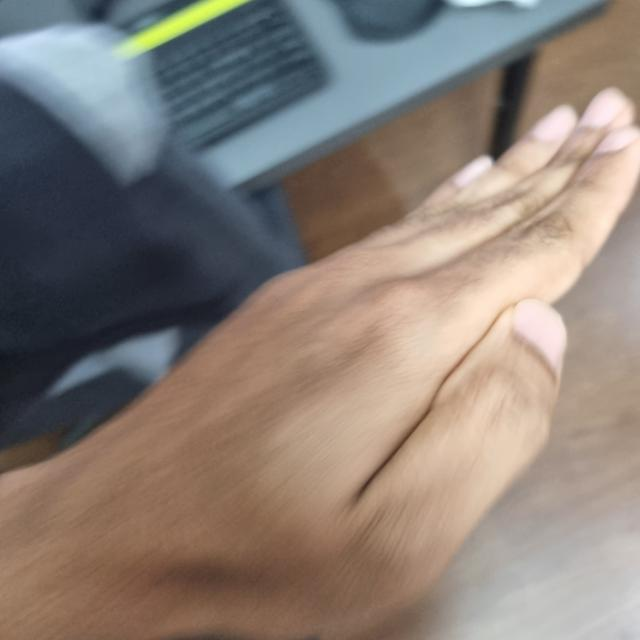Paper: (44, 93, 637, 637)
